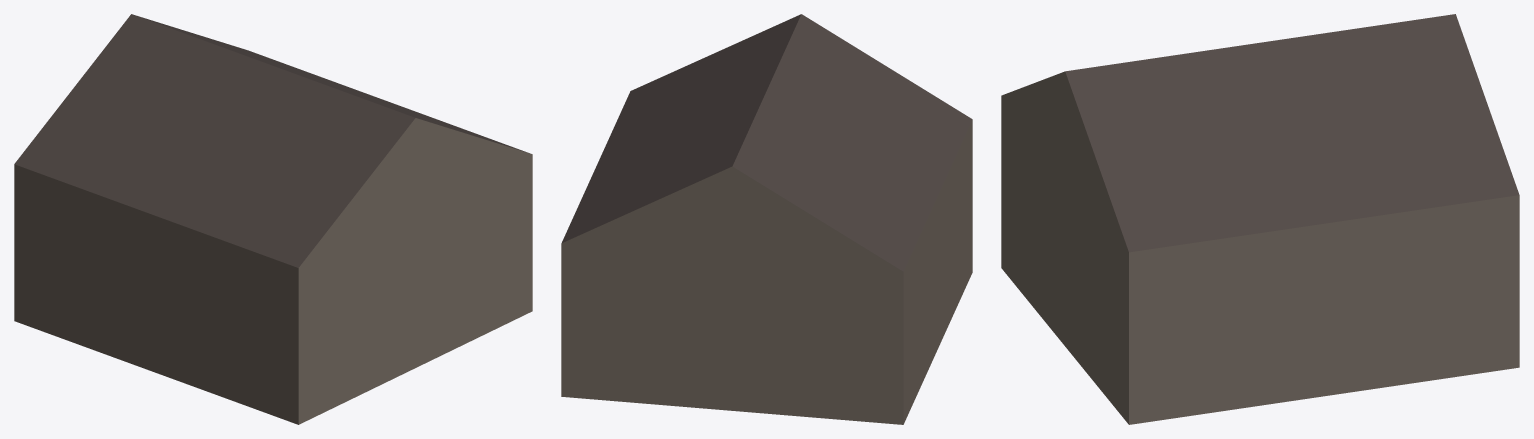
3 views of the same model, side by side, from view 1: azimuth 30°, elevation 25°; view 2: azimuth 150°, elevation 25°; view 3: azimuth 270°, elevation 25° (orthographic). The views are drawn at different scales.
Visible parts, largest first — view 1: HP-w369317460; view 2: HP-w369317460; view 3: HP-w369317460.
Boxes of the visible parts, bbox=[...] form: HP-w369317460: bbox=[14, 14, 532, 424]; HP-w369317460: bbox=[561, 14, 972, 424]; HP-w369317460: bbox=[1001, 14, 1519, 424].
Size of the model in its own units: 23.95 by 14.35 by 24.49.
